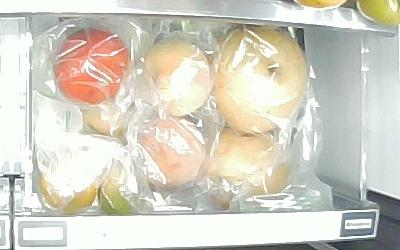peach_vinyl: (141, 39, 213, 118), (133, 117, 208, 192)
pear_vinyl: (213, 24, 308, 133), (204, 125, 290, 209)
tangerine_vinyl: (39, 164, 100, 215), (99, 161, 144, 217)
tomato_vinyl: (52, 28, 131, 105)
